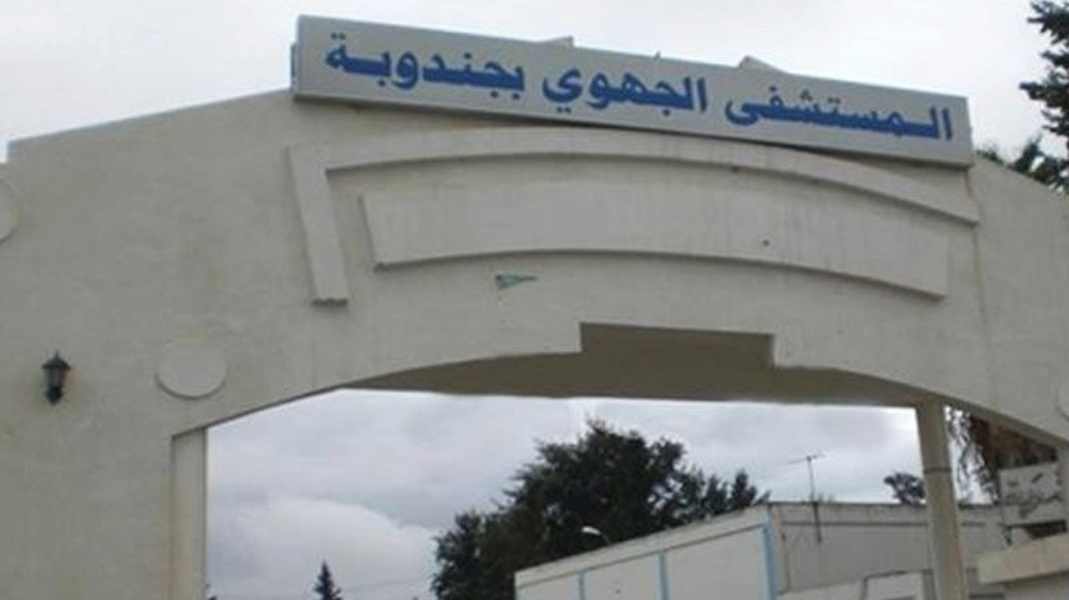text: (337, 30, 352, 103), (353, 30, 368, 103), (369, 30, 384, 103), (385, 30, 400, 103), (401, 30, 416, 103), (417, 30, 432, 103), (433, 30, 448, 103), (449, 30, 464, 103), (465, 30, 480, 103), (481, 30, 496, 103), (497, 30, 512, 103), (513, 30, 528, 103), (737, 81, 752, 145), (753, 81, 768, 145), (769, 81, 784, 145), (785, 81, 800, 145), (801, 81, 816, 145), (817, 81, 832, 145), (833, 81, 848, 145), (849, 81, 864, 145), (865, 81, 880, 145), (881, 81, 896, 145), (897, 81, 912, 145), (913, 81, 928, 145), (929, 81, 944, 145), (545, 58, 560, 118), (561, 58, 576, 118), (577, 58, 592, 118), (593, 58, 608, 118), (609, 58, 624, 118), (625, 58, 640, 118), (641, 58, 656, 118), (657, 58, 672, 118), (673, 58, 688, 118), (689, 58, 704, 118), (727, 81, 736, 145), (945, 81, 953, 145), (329, 30, 336, 103), (539, 58, 544, 118), (705, 58, 710, 118)
